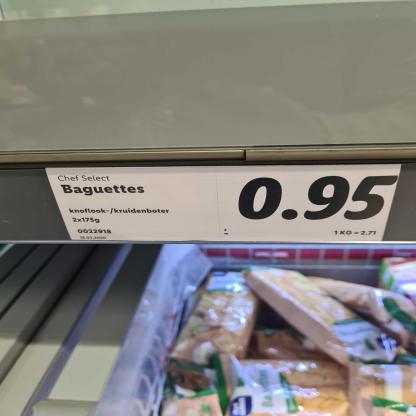prtg: (46, 165, 403, 243)
